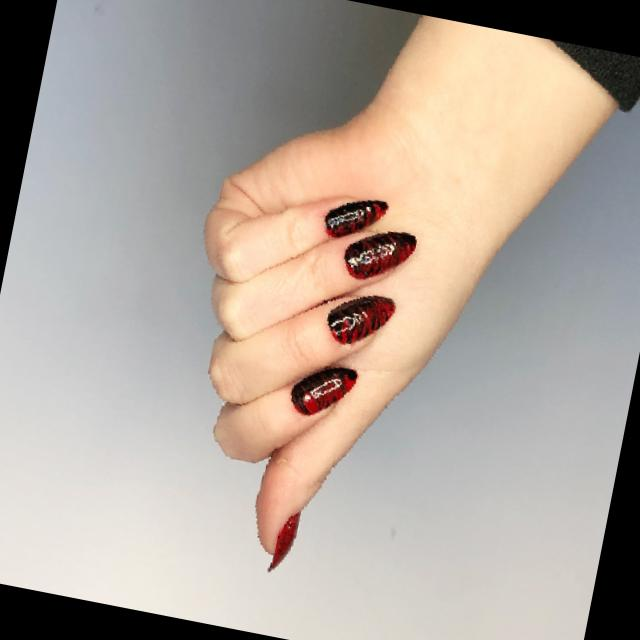Nail: (344, 232, 417, 278), (326, 295, 394, 343), (290, 367, 357, 415), (324, 200, 388, 237), (267, 511, 299, 571)
